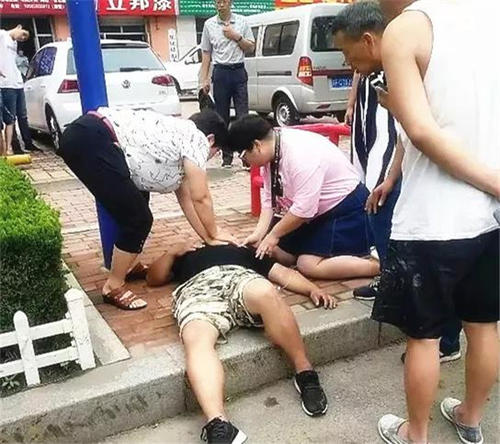fall: (141, 221, 343, 444)
